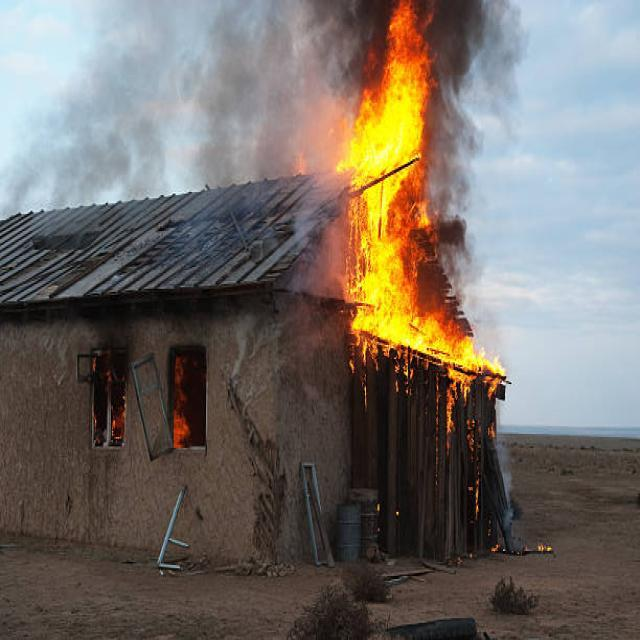Fire: (350, 18, 490, 389), (173, 356, 203, 457)
Smoke: (4, 4, 380, 209), (430, 0, 522, 281)
